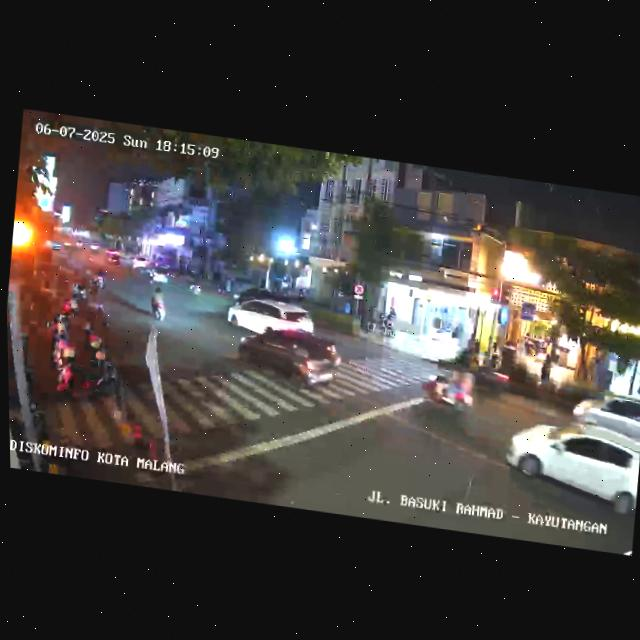car: (500, 413, 640, 521), (234, 320, 345, 392), (224, 292, 318, 346), (570, 390, 640, 433), (134, 261, 171, 289), (102, 248, 123, 267)
motorcycle: (416, 363, 478, 422), (147, 284, 170, 323), (184, 273, 203, 299), (92, 266, 109, 293)
person: (538, 353, 552, 385), (637, 372, 640, 397)
